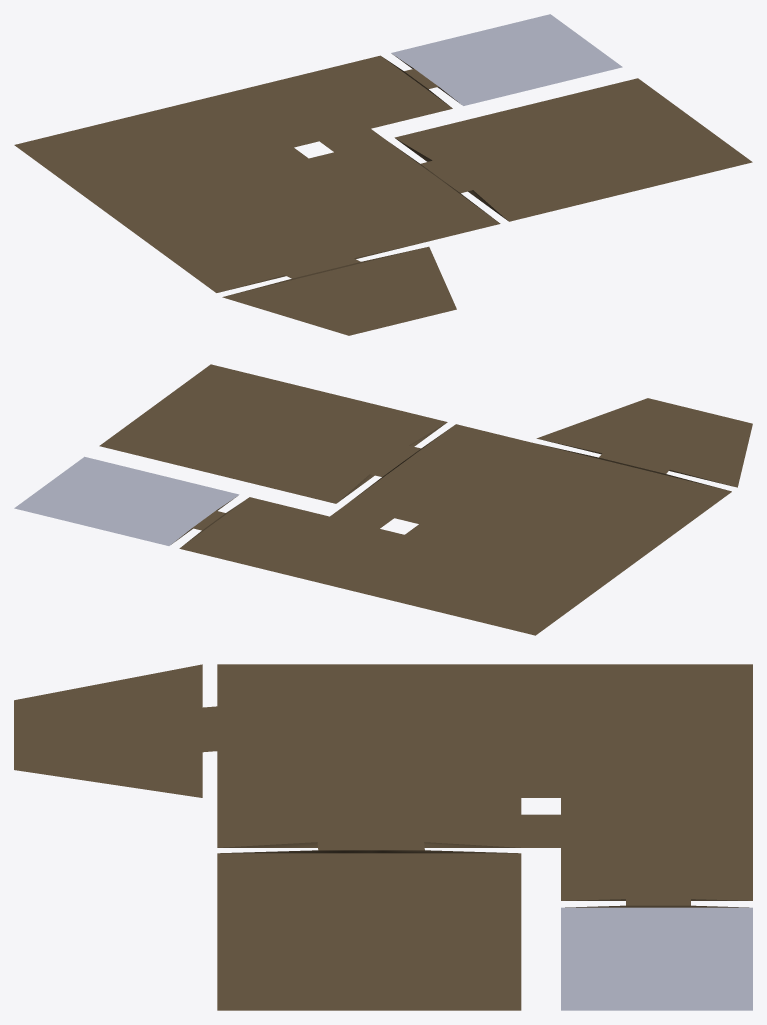
The model's file is Suelo.fbx.
The picture shows the model from 3 angles, top to bottom: view 1: azimuth 30°, elevation 25°; view 2: azimuth 150°, elevation 25°; view 3: azimuth 270°, elevation 25°; orthographic projection. The views are drawn at different scales.
Visible parts, largest first — view 1: polySurface80; view 2: polySurface80; view 3: polySurface80.
Boxes of the visible parts, left/top/right/bottom form: polySurface80: left=14, top=14, right=752, bottom=335; polySurface80: left=14, top=364, right=752, bottom=635; polySurface80: left=14, top=664, right=752, bottom=1010.
Size of the model in its own units: 66.38 by 0.3871 by 59.86.
